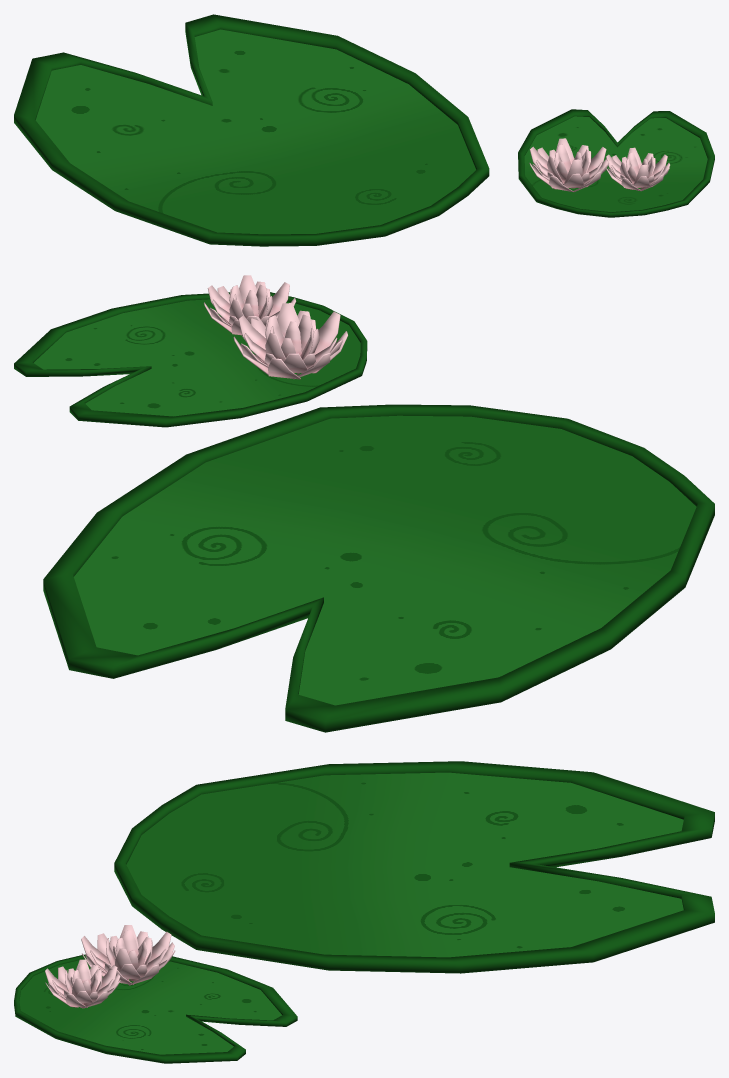
File: Lilypad3.fbx
3 views of the same model, one above another, from view 1: azimuth 30°, elevation 25°; view 2: azimuth 150°, elevation 25°; view 3: azimuth 270°, elevation 25° (orthographic). The views are drawn at different scales.
Parts seen in each view (by area): view 1: Plane, Plane.004, Plane.007, Plane.003; view 2: Plane, Plane.004, Plane.007, Plane.003; view 3: Plane, Plane.004, Plane.007, Plane.003.
Boxes of the visible parts, x1=… form: Plane: x1=14, y1=14, x2=489, y2=246; Plane.004: x1=518, y1=109, x2=714, y2=217; Plane.007: x1=529, y1=138, x2=609, y2=192; Plane.003: x1=606, y1=147, x2=670, y2=191; Plane: x1=43, y1=404, x2=714, y2=732; Plane.004: x1=14, y1=292, x2=367, y2=427; Plane.007: x1=233, y1=303, x2=347, y2=379; Plane.003: x1=204, y1=275, x2=296, y2=335; Plane: x1=114, y1=761, x2=714, y2=973; Plane.004: x1=14, y1=954, x2=297, y2=1063; Plane.007: x1=81, y1=925, x2=175, y2=985; Plane.003: x1=45, y1=959, x2=120, y2=1008.
Bounding box in the file's own units: 262 × 17.82 × 265.
2 materials, 2 textured.
